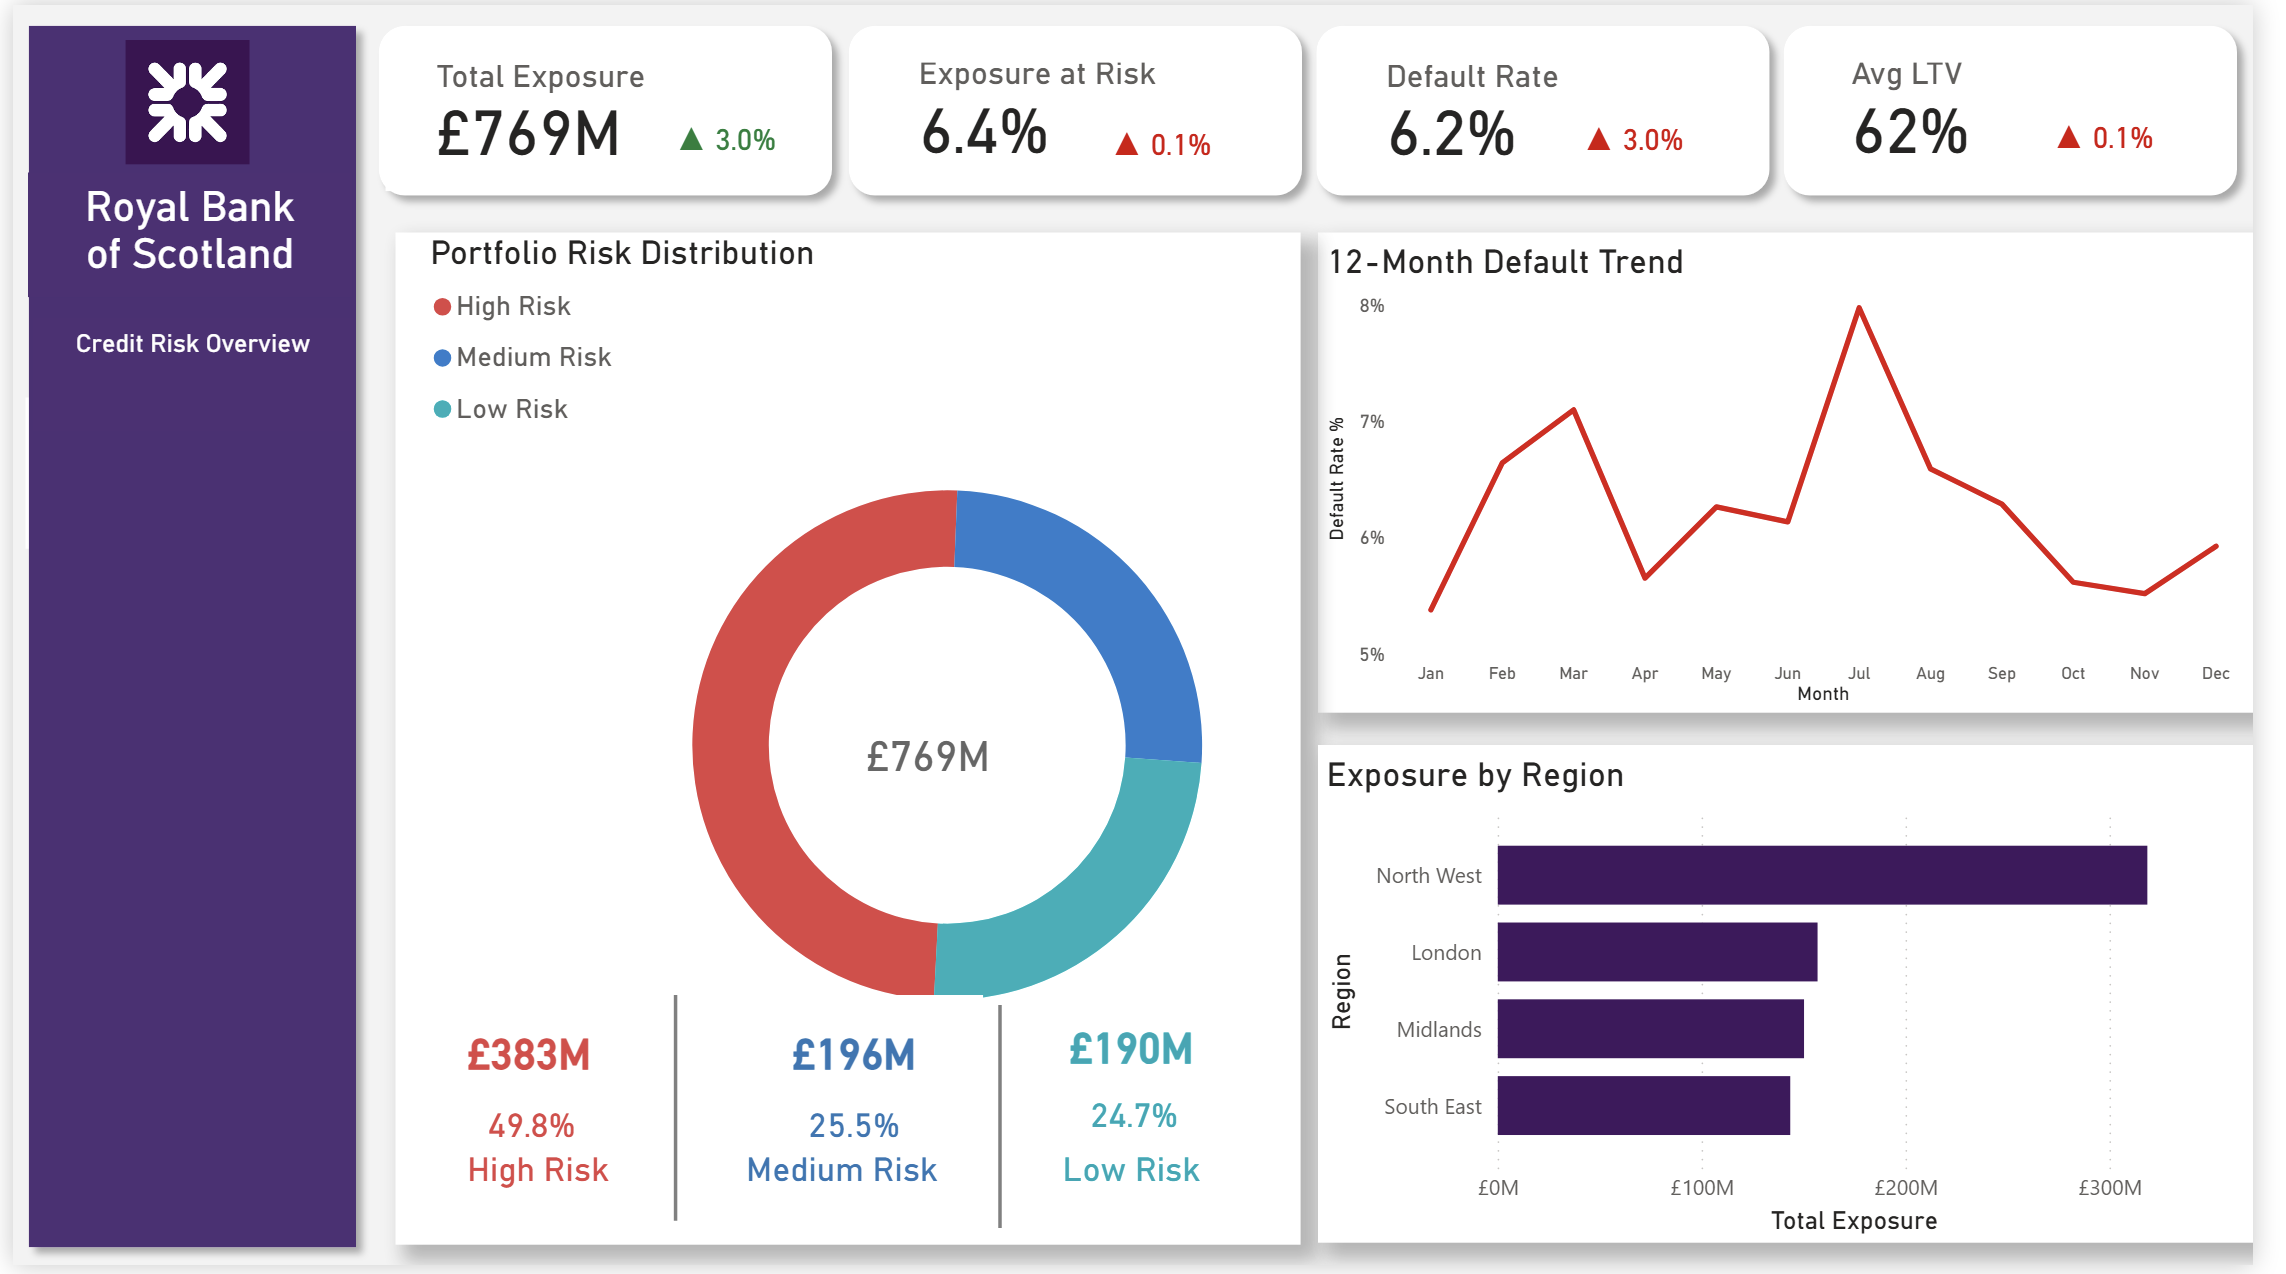

Layout of this report page (visuals, bound fields, positions):
{"tool":"powerbi","page":{"name":"Credit Risk Overview","canvas":[1280,720],"ordinal":0},"visuals":[{"type":"lineChart","title":"12-Month Default Trend","fields":{"Y":["Fct_Credit_Exposure_Audit.Default Rate (Count) %"],"Category":["Dim_Calendar_Lookup.Short Month"]},"box":[755.7,136.1,524.6,268.9],"z":0},{"type":"slicer","fields":{"Values":["Dim_Calendar_Lookup.Year"]},"box":[7,223.6,149.7,86.3],"z":1000},{"type":"slicer","fields":{"Values":["Risk Focus.Risk View"]},"box":[24.6,49.3,149.7,86.3],"z":2000},{"type":"shape","box":[0,3,205,716],"z":3000},{"type":"textbox","box":[12,178,183,65],"z":4000},{"type":"image","box":[6.8,20.3,185,71],"z":5000},{"type":"textbox","box":[9,95,185,71.2],"z":6000},{"type":"donutChart","title":"Portfolio Risk Distribution","fields":{"Category":["Fct_Credit_Exposure_Audit.Risk Band"],"Y":["Fct_Credit_Exposure_Audit.Total Exposure"]},"box":[219,135,501,573],"z":7000},{"type":"shape","box":[200,3,277,115],"z":8000},{"type":"shape","box":[468,3,277,115],"z":9000},{"type":"shape","box":[736,3,277,115],"z":10000},{"type":"shape","box":[1003,3,277,115],"z":11000},{"type":"cardVisual","fields":{"Data":["Fct_Credit_Exposure_Audit.Total Exposure"]},"box":[213.3,16.7,232,89],"z":12000},{"type":"cardVisual","fields":{"Data":["Fct_Credit_Exposure_Audit.Exposure Trend Icon"]},"box":[347,45,120,63],"z":13000},{"type":"cardVisual","fields":{"Data":["Fct_Credit_Exposure_Audit.Exposure at Risk %"]},"box":[489.1,15.2,232.7,89.4],"z":14000},{"type":"cardVisual","fields":{"Data":["Fct_Credit_Exposure_Audit.Default Rate (Count) %"]},"box":[755.5,16.9,232.7,89],"z":15000},{"type":"cardVisual","fields":{"Data":["Avg(Fct_Credit_Exposure_Audit.Avg LTV)"]},"box":[1022,16,232,89],"z":16000},{"type":"barChart","title":"Exposure by Region","fields":{"Category":["Fct_Credit_Exposure_Audit.Region"],"Y":["Fct_Credit_Exposure_Audit.Total Exposure"]},"box":[755.7,432.8,524.6,273.8],"z":17000},{"type":"cardVisual","fields":{"Data":["Fct_Credit_Exposure_Audit.Risk Trend Icon"]},"box":[591,46.5,129,63],"z":18000},{"type":"cardVisual","fields":{"Data":["Fct_Credit_Exposure_Audit.Default Rate Trend Icon"]},"box":[866.1,44.1,120,63],"z":19000},{"type":"cardVisual","fields":{"Data":["Fct_Credit_Exposure_Audit.Default Rate Trend Icon"]},"box":[1134,43.5,120,63],"z":20000},{"type":"cardVisual","fields":{"Data":["Fct_Credit_Exposure_Audit.Total Exposure"]},"box":[458,395,140,64],"z":21000},{"type":"cardVisual","fields":{"Data":["Fct_Credit_Exposure_Audit.High Risk Exp"]},"box":[222,565.5,147,64.5],"z":22000},{"type":"cardVisual","fields":{"Data":["Fct_Credit_Exposure_Audit.High Risk Share %"]},"box":[223,613.1,147.5,52],"z":23000},{"type":"cardVisual","fields":{"Data":["Fct_Credit_Exposure_Audit.Medium Risk Exp"]},"box":[406.5,565.5,147,64.5],"z":24000},{"type":"cardVisual","fields":{"Data":["Fct_Credit_Exposure_Audit.Medium Risk Share %"]},"box":[406.5,613.5,147,52.5],"z":25000},{"type":"cardVisual","fields":{"Data":["Fct_Credit_Exposure_Audit.Low Risk Exp"]},"box":[567,565.5,144,58],"z":26000},{"type":"cardVisual","fields":{"Data":["Fct_Credit_Exposure_Audit.Low Risk Share %"]},"box":[567,607.5,147,52.5],"z":27000},{"type":"textbox","box":[222,648,157.5,46.5],"z":28000},{"type":"shape","box":[540,571.5,48,127.5],"z":29000},{"type":"shape","box":[363,565.5,31.5,129],"z":30000},{"type":"textbox","box":[394.5,648,159,46.5],"z":31000},{"type":"textbox","box":[567,648,144,46.5],"z":32000}]}

Visuals, with their boxes in screenshot pixels (x1, y1, x2, y2), scaled from the page's 1280x720 canvas onto the 2286x1274 screenshot:
"12-Month Default Trend" lineChart: box=[1350, 241, 2285, 717]
slicer - Dim_Calendar_Lookup.Year: box=[13, 396, 280, 548]
slicer - Risk Focus.Risk View: box=[44, 87, 311, 240]
shape: box=[0, 5, 366, 1272]
textbox: box=[21, 315, 348, 430]
image: box=[12, 36, 343, 162]
textbox: box=[16, 168, 346, 294]
"Portfolio Risk Distribution" donutChart: box=[391, 239, 1286, 1253]
shape: box=[357, 5, 852, 209]
shape: box=[836, 5, 1331, 209]
shape: box=[1314, 5, 1809, 209]
shape: box=[1791, 5, 2285, 209]
cardVisual - Fct_Credit_Exposure_Audit.Total Exposure: box=[381, 30, 795, 187]
cardVisual - Fct_Credit_Exposure_Audit.Exposure Trend Icon: box=[620, 80, 834, 191]
cardVisual - Fct_Credit_Exposure_Audit.Exposure at Risk %: box=[874, 27, 1289, 185]
cardVisual - Fct_Credit_Exposure_Audit.Default Rate (Count) %: box=[1349, 30, 1765, 187]
cardVisual - Avg(Fct_Credit_Exposure_Audit.Avg LTV): box=[1825, 28, 2240, 186]
"Exposure by Region" barChart: box=[1350, 766, 2285, 1250]
cardVisual - Fct_Credit_Exposure_Audit.Risk Trend Icon: box=[1055, 82, 1286, 194]
cardVisual - Fct_Credit_Exposure_Audit.Default Rate Trend Icon: box=[1547, 78, 1761, 190]
cardVisual - Fct_Credit_Exposure_Audit.Default Rate Trend Icon: box=[2025, 77, 2240, 188]
cardVisual - Fct_Credit_Exposure_Audit.Total Exposure: box=[818, 699, 1068, 812]
cardVisual - Fct_Credit_Exposure_Audit.High Risk Exp: box=[396, 1001, 659, 1115]
cardVisual - Fct_Credit_Exposure_Audit.High Risk Share %: box=[398, 1085, 662, 1177]
cardVisual - Fct_Credit_Exposure_Audit.Medium Risk Exp: box=[726, 1001, 989, 1115]
cardVisual - Fct_Credit_Exposure_Audit.Medium Risk Share %: box=[726, 1086, 989, 1178]
cardVisual - Fct_Credit_Exposure_Audit.Low Risk Exp: box=[1013, 1001, 1270, 1103]
cardVisual - Fct_Credit_Exposure_Audit.Low Risk Share %: box=[1013, 1075, 1275, 1168]
textbox: box=[396, 1147, 678, 1229]
shape: box=[964, 1011, 1050, 1237]
shape: box=[648, 1001, 705, 1229]
textbox: box=[705, 1147, 989, 1229]
textbox: box=[1013, 1147, 1270, 1229]
